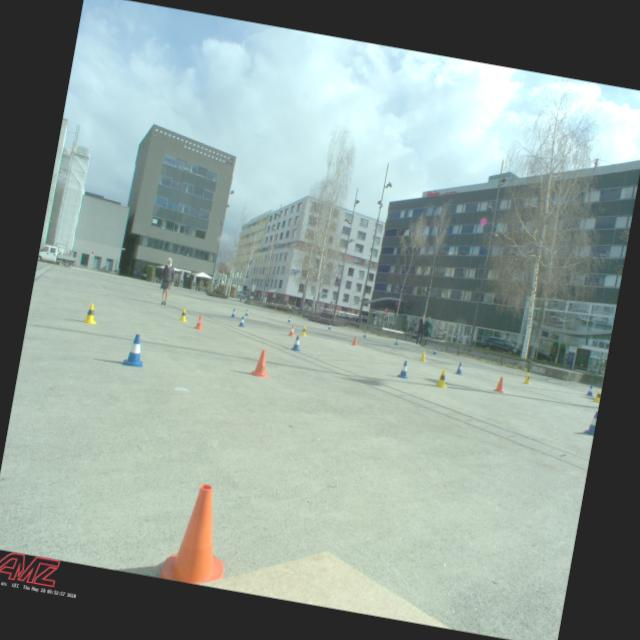blue_cone: (121, 331, 148, 368), (582, 409, 597, 436), (396, 359, 412, 379), (290, 334, 302, 352), (237, 314, 246, 328), (454, 362, 464, 374), (585, 384, 595, 396), (230, 308, 237, 318), (432, 347, 438, 355), (244, 308, 249, 316), (362, 330, 367, 338), (286, 316, 292, 322), (327, 323, 332, 330), (394, 338, 399, 344)
orange_cone: (158, 478, 238, 588), (248, 348, 273, 378), (492, 375, 507, 393), (194, 314, 205, 329), (287, 324, 296, 337), (351, 336, 358, 346)
yellow_cone: (82, 302, 100, 324), (434, 368, 450, 388), (178, 306, 189, 322), (522, 372, 532, 385), (592, 388, 601, 402), (419, 350, 428, 362), (300, 326, 308, 336)
